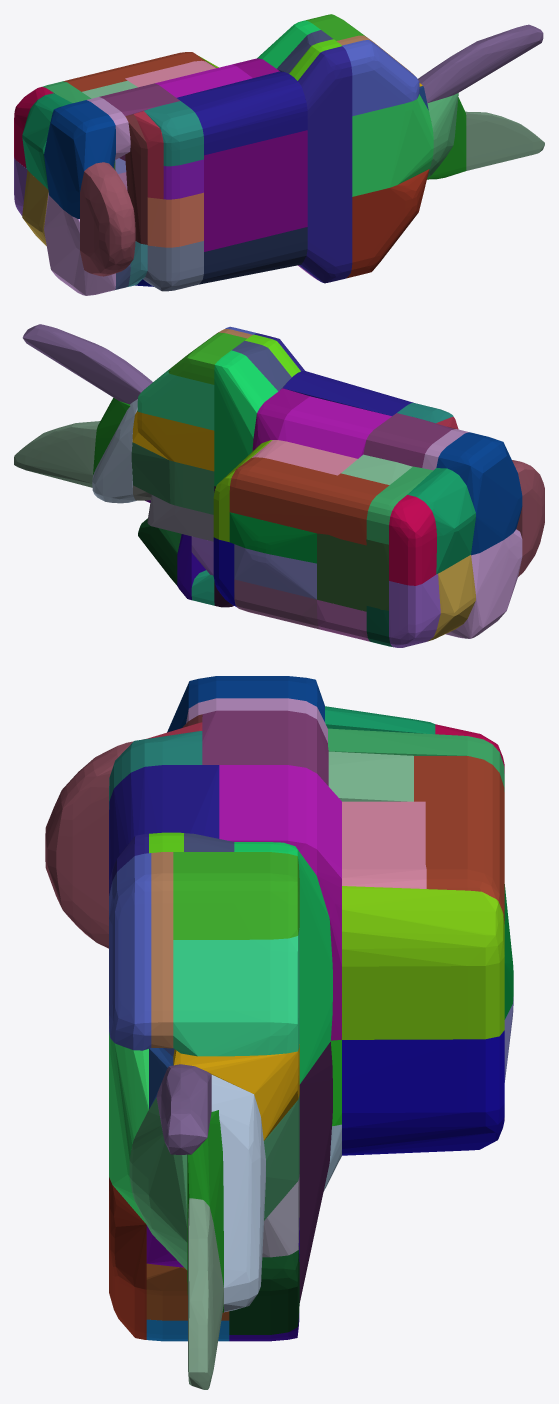
The model's file is pusher_collison.obj.
The picture shows the model from 3 angles, top to bottom: view 1: azimuth 30°, elevation 25°; view 2: azimuth 150°, elevation 25°; view 3: azimuth 270°, elevation 25°; orthographic projection. The views are drawn at different scales.
Parts seen in each view (by area): view 1: geometry_18, geometry_11, geometry_20, geometry_36, geometry_42, geometry_13, geometry_15, geometry_1, geometry_47, geometry_21, geometry_49, geometry_0 (+25 smaller); view 2: geometry_31, geometry_42, geometry_23, geometry_19, geometry_1, geometry_22, geometry_53, geometry_49, geometry_55, geometry_0, geometry_43, geometry_59 (+29 smaller); view 3: geometry_4, geometry_5, geometry_61, geometry_31, geometry_74, geometry_13, geometry_22, geometry_6, geometry_47, geometry_20, geometry_24, geometry_28 (+25 smaller).
Part boxes in pixels (bbox=[...]): geometry_18: bbox=[298, 46, 352, 283]; geometry_11: bbox=[204, 130, 307, 251]; geometry_20: bbox=[177, 71, 307, 155]; geometry_36: bbox=[352, 94, 433, 196]; geometry_42: bbox=[44, 100, 115, 218]; geometry_13: bbox=[80, 162, 135, 276]; geometry_15: bbox=[346, 169, 429, 278]; geometry_1: bbox=[418, 24, 543, 103]; geometry_47: bbox=[342, 40, 419, 116]; geometry_21: bbox=[199, 227, 307, 284]; geometry_49: bbox=[44, 193, 115, 295]; geometry_0: bbox=[465, 111, 544, 170]; geometry_31: bbox=[229, 457, 389, 545]; geometry_42: bbox=[436, 432, 522, 555]; geometry_23: bbox=[214, 350, 277, 486]; geometry_19: bbox=[317, 533, 388, 611]; geometry_1: bbox=[22, 324, 152, 404]; geometry_22: bbox=[278, 396, 391, 458]; geometry_53: bbox=[407, 468, 475, 574]; geometry_49: bbox=[445, 529, 522, 638]; geometry_55: bbox=[389, 495, 436, 585]; geometry_0: bbox=[14, 421, 100, 487]; geometry_43: bbox=[131, 442, 214, 514]; geometry_59: bbox=[132, 410, 214, 471]; geometry_4: bbox=[342, 886, 504, 1039]; geometry_5: bbox=[342, 1030, 504, 1155]; geometry_61: bbox=[173, 928, 299, 1056]; geometry_31: bbox=[414, 756, 504, 923]; geometry_74: bbox=[173, 852, 299, 939]; geometry_13: bbox=[45, 739, 144, 948]; geometry_22: bbox=[219, 765, 341, 878]; geometry_6: bbox=[211, 1075, 265, 1312]; geometry_47: bbox=[109, 853, 151, 1050]; geometry_20: bbox=[109, 765, 219, 882]; geometry_24: bbox=[342, 801, 426, 888]; geometry_28: bbox=[202, 710, 328, 785].
Size of the model in its own units: 179 by 84.24 by 76.98.
